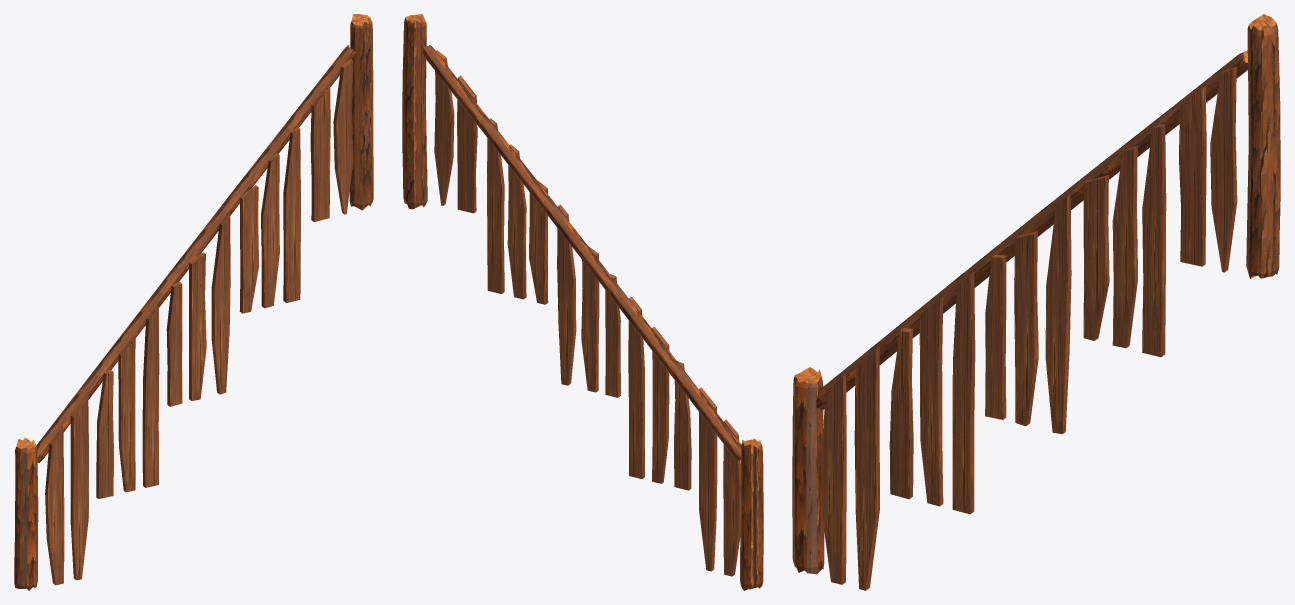
The model's file is railing_stairs__plank_root.glb.
The picture shows the model from 3 angles, left to right: view 1: azimuth 30°, elevation 25°; view 2: azimuth 150°, elevation 25°; view 3: azimuth 330°, elevation 25°; orthographic projection. The views are drawn at different scales.
Visible parts, largest first — view 1: model; view 2: model; view 3: model.
Part boxes in pixels (x1,y1,x2,y2): model: (14, 14, 373, 590); model: (402, 14, 763, 590); model: (792, 14, 1280, 590).
Size of the model in its own units: 1.98 by 2.6 by 0.1279.
9 materials, 9 textured.
